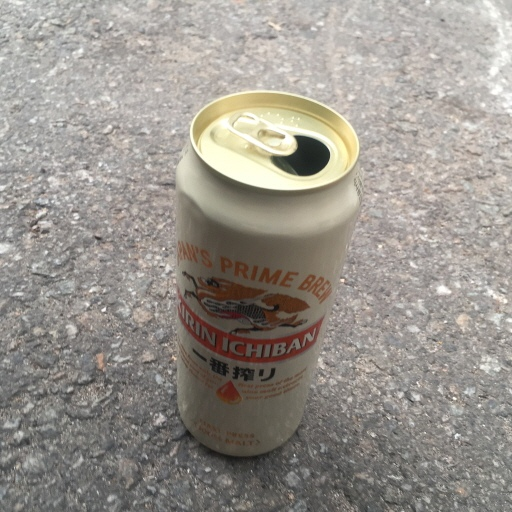Metal_0: (170, 90, 363, 468)
